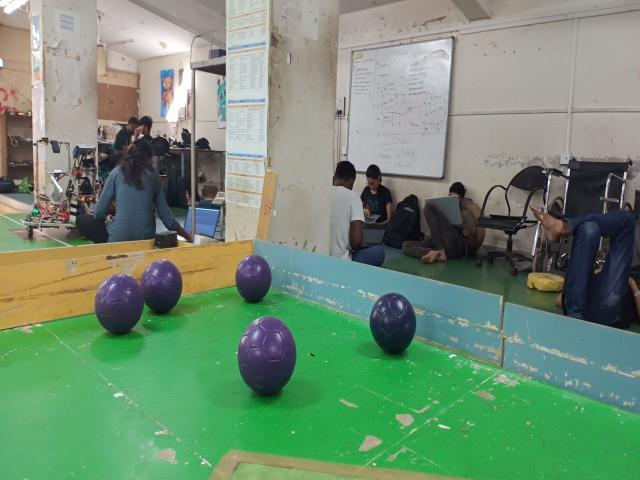jambhalya: (238, 317, 296, 395), (95, 273, 145, 333), (140, 260, 182, 313), (235, 255, 271, 302)
kaalyya: (370, 293, 416, 353)
